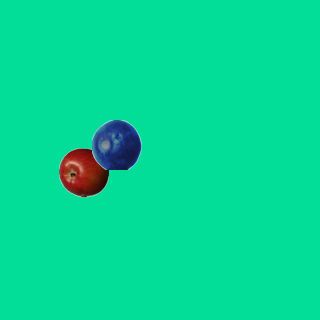Apple Braeburn: (58, 147, 108, 197)
Huckleberry: (91, 119, 141, 169)
